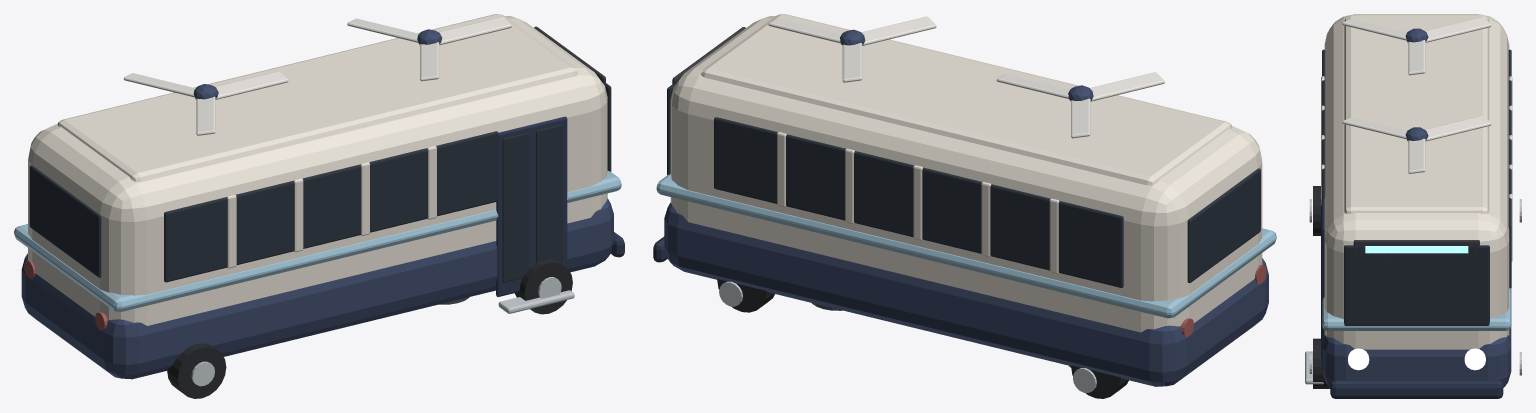
Rendered from bus.glb.
3 renders of one model, left to right at view 1: azimuth 30°, elevation 25°; view 2: azimuth 150°, elevation 25°; view 3: azimuth 270°, elevation 25°, orthographic. The views are drawn at different scales.
Parts seen in each view (by area): view 1: BusBody, Rotor0, Rotor1; view 2: BusBody, Rotor1, Rotor0; view 3: BusBody, Rotor0, Rotor1.
Boxes of the visible parts, box(x1,y1,x2,y2) form: BusBody: box(14, 14, 624, 398); Rotor0: box(123, 71, 288, 135); Rotor1: box(347, 16, 511, 81); BusBody: box(653, 14, 1276, 398); Rotor1: box(768, 16, 936, 82); Rotor0: box(996, 72, 1164, 138); BusBody: box(1305, 14, 1521, 398); Rotor0: box(1342, 17, 1491, 75); Rotor1: box(1342, 115, 1491, 173).
Size of the model in its own units: 2.77 by 1.38 by 1.12.
